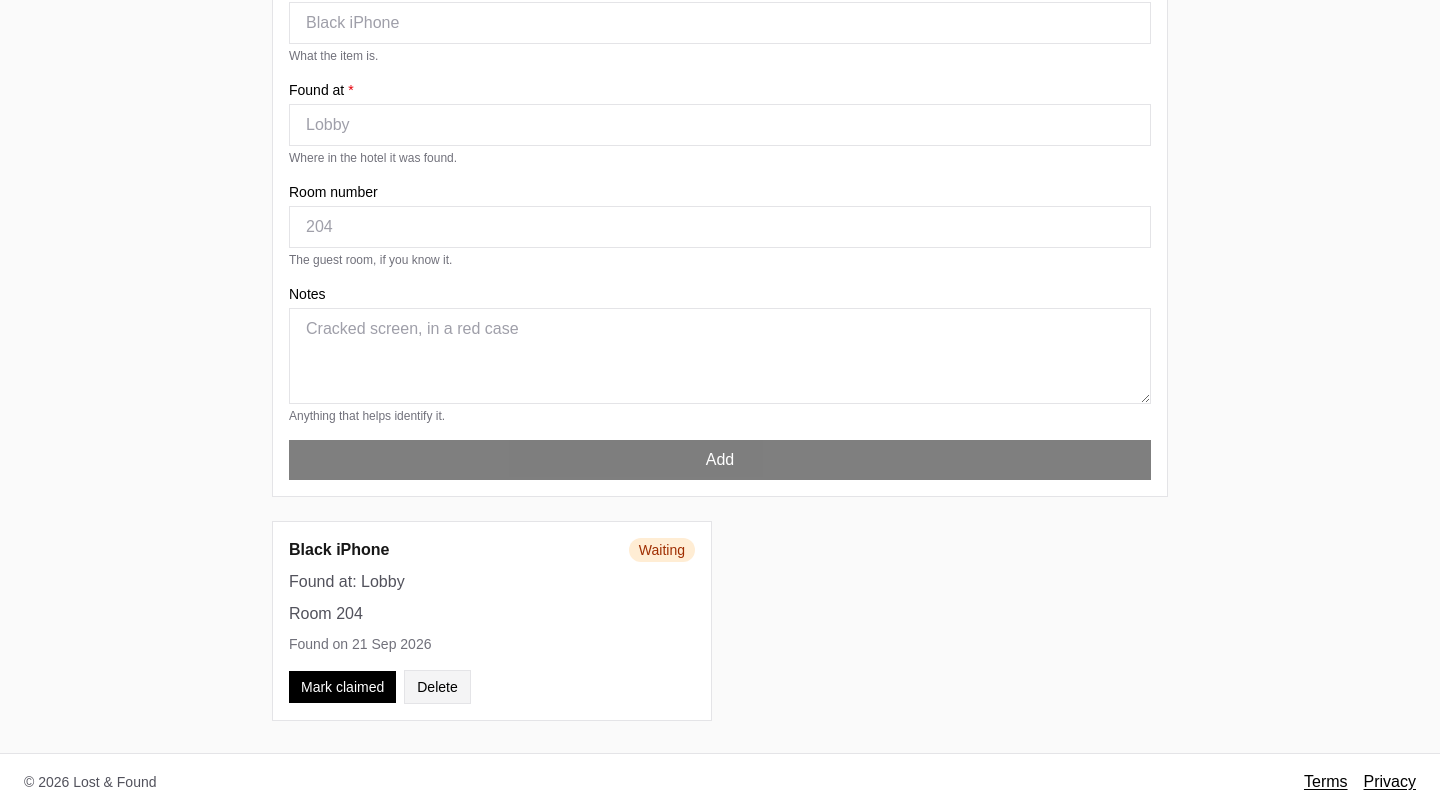
Test: marking claimed swaps the badge using the returned row
The image size is (1440, 802).
(page scrolled)
Click the button "Mark claimed" at (343, 687), box [289,671,396,703]
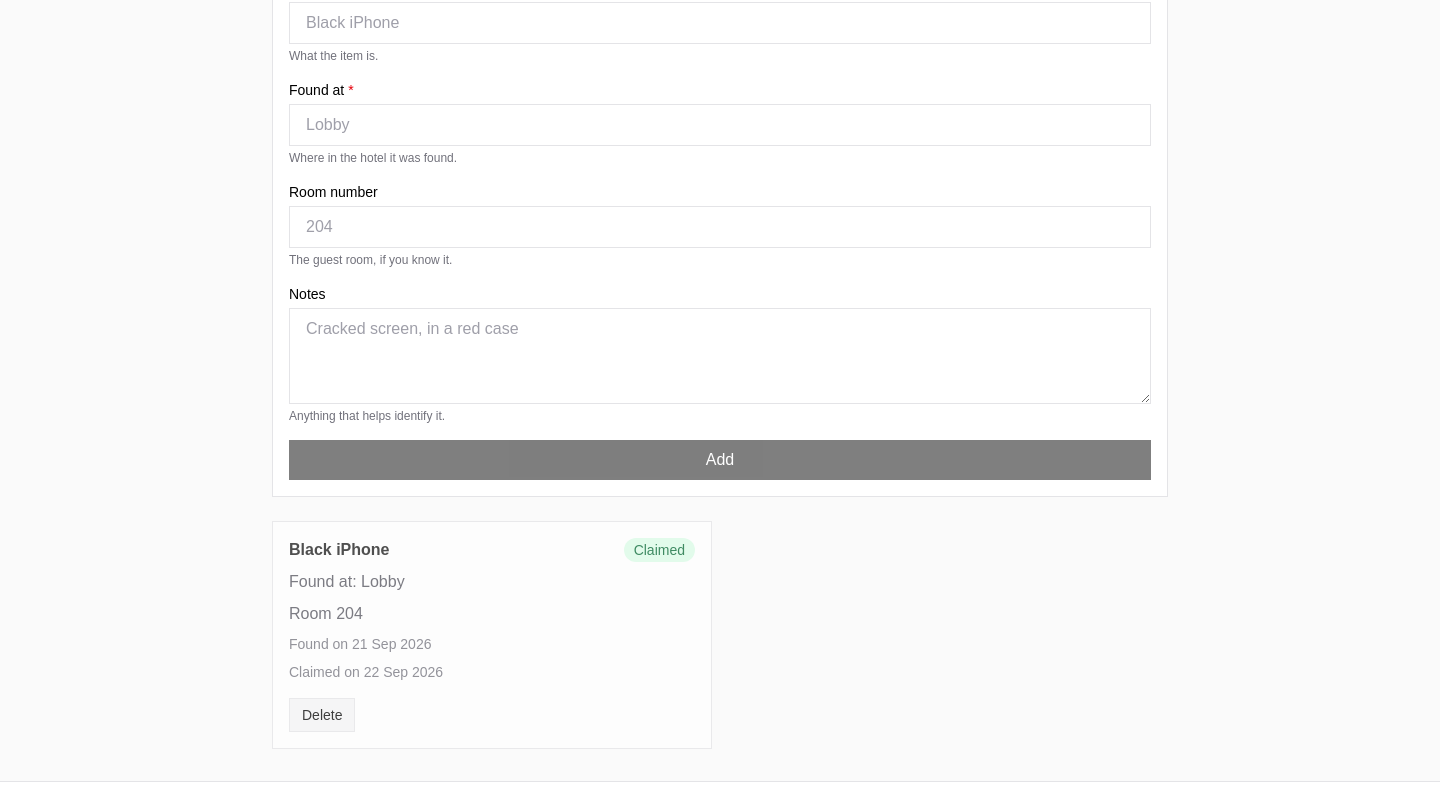
Result: the text "Claimed on 22 Sep 2026" is shown at [289,664,443,680]
